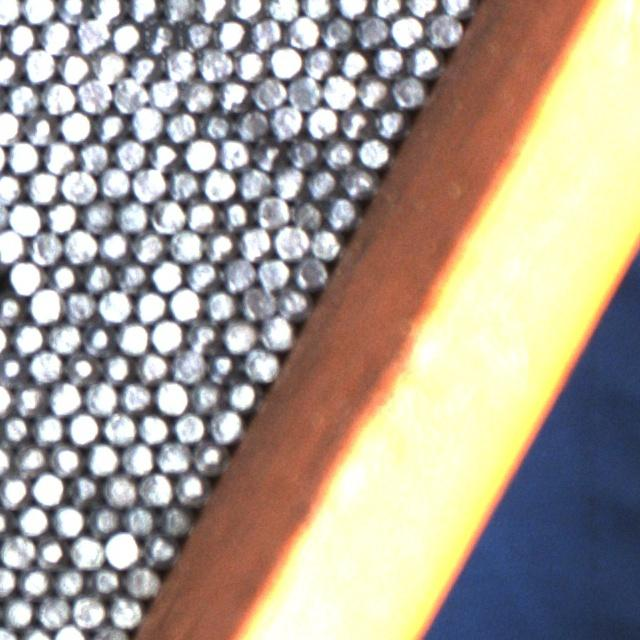tool: (242, 346, 278, 381), (241, 284, 276, 320), (222, 316, 257, 352), (102, 472, 137, 507), (41, 79, 76, 114), (391, 73, 426, 108), (66, 410, 100, 446), (138, 470, 172, 506), (42, 138, 76, 174), (76, 76, 110, 112), (36, 593, 70, 628), (85, 441, 120, 475), (30, 411, 65, 445), (31, 471, 65, 506), (60, 168, 95, 202), (320, 14, 354, 49), (170, 347, 205, 381), (71, 592, 105, 627), (220, 256, 255, 290), (134, 348, 169, 382), (97, 288, 131, 323), (186, 319, 220, 354), (268, 103, 302, 138), (149, 197, 183, 232), (102, 409, 136, 444), (27, 229, 61, 264), (247, 16, 282, 50), (131, 228, 165, 263), (104, 532, 138, 567), (154, 379, 188, 414), (48, 441, 82, 476), (24, 169, 59, 203), (302, 44, 336, 79), (111, 76, 146, 110), (292, 254, 327, 288), (140, 532, 175, 566), (0, 532, 33, 568), (133, 288, 167, 322), (16, 502, 50, 536), (156, 439, 190, 473), (218, 136, 252, 170), (390, 13, 424, 47), (10, 322, 44, 356), (28, 288, 62, 322), (166, 167, 200, 201), (183, 136, 217, 170), (268, 44, 302, 78), (130, 167, 164, 201), (6, 139, 40, 173), (38, 18, 72, 52), (322, 74, 356, 108), (274, 224, 308, 258), (63, 289, 97, 323), (163, 46, 197, 80), (4, 20, 38, 54), (236, 166, 270, 200), (120, 441, 154, 475), (285, 14, 319, 48), (172, 410, 206, 444), (13, 443, 47, 477), (108, 19, 142, 53), (44, 198, 78, 232), (58, 108, 92, 142), (28, 349, 62, 383), (46, 320, 80, 354), (94, 109, 128, 143), (234, 107, 268, 141), (322, 136, 356, 170), (80, 259, 114, 293), (80, 198, 114, 232), (286, 135, 320, 169), (70, 534, 104, 568), (67, 472, 101, 506), (168, 227, 202, 261), (238, 225, 272, 259), (8, 200, 42, 234), (137, 410, 171, 444), (122, 502, 156, 536), (87, 502, 121, 536), (64, 350, 98, 384), (118, 379, 152, 413), (180, 16, 214, 50), (51, 502, 85, 536), (232, 46, 266, 80), (45, 259, 79, 293), (354, 13, 388, 47), (72, 16, 106, 50), (286, 74, 320, 108), (48, 380, 82, 414), (355, 74, 389, 108), (256, 255, 290, 289), (216, 77, 250, 111), (23, 111, 57, 145), (203, 286, 237, 320), (189, 378, 223, 412), (254, 194, 288, 228), (208, 408, 242, 442), (12, 382, 46, 416), (204, 348, 238, 382), (172, 472, 206, 506), (168, 286, 201, 321), (23, 47, 56, 82), (97, 165, 130, 200), (150, 317, 183, 352), (84, 380, 117, 415), (100, 349, 133, 384), (113, 137, 146, 171), (116, 319, 149, 353), (6, 82, 40, 115), (116, 198, 149, 232), (198, 46, 231, 80), (18, 564, 51, 598), (92, 48, 125, 82), (259, 314, 293, 347), (80, 323, 114, 356), (9, 259, 43, 292), (89, 562, 122, 596), (184, 197, 218, 230), (142, 21, 176, 54), (115, 259, 148, 293), (96, 228, 129, 262), (185, 257, 218, 291), (57, 50, 91, 83), (336, 45, 370, 78), (180, 78, 213, 112), (305, 104, 338, 138), (191, 438, 224, 472), (201, 166, 234, 200), (1, 595, 35, 628), (63, 228, 96, 262), (290, 196, 324, 229), (218, 197, 252, 230), (147, 139, 180, 173), (252, 137, 285, 171), (52, 563, 86, 596), (202, 227, 235, 261), (34, 534, 67, 568), (427, 13, 460, 47), (125, 564, 158, 598), (130, 106, 163, 139), (109, 594, 142, 627), (150, 258, 183, 291), (146, 76, 179, 109), (251, 75, 284, 108), (305, 166, 338, 199), (357, 135, 390, 168), (309, 226, 342, 259), (338, 105, 371, 138), (371, 105, 404, 138), (272, 165, 304, 199), (372, 43, 404, 77), (198, 108, 232, 140), (127, 51, 161, 83), (406, 43, 438, 77), (277, 284, 309, 318), (214, 17, 246, 50), (165, 109, 197, 142), (340, 164, 372, 197), (78, 140, 111, 172), (160, 503, 192, 536), (324, 196, 357, 228), (226, 378, 258, 410), (0, 473, 29, 508), (0, 411, 29, 445), (0, 293, 27, 327), (0, 229, 26, 263), (0, 352, 27, 384), (90, 0, 124, 25), (0, 170, 24, 204), (56, 0, 89, 24), (161, 0, 195, 23), (20, 0, 54, 23), (126, 0, 160, 22), (0, 110, 21, 144), (300, 0, 334, 21), (0, 52, 22, 84), (196, 0, 229, 21), (230, 0, 264, 20), (266, 0, 298, 21), (336, 0, 370, 18), (53, 623, 89, 640), (92, 623, 128, 640), (371, 0, 404, 18), (0, 562, 17, 596), (405, 0, 438, 17), (440, 0, 473, 17), (0, 0, 20, 24)
